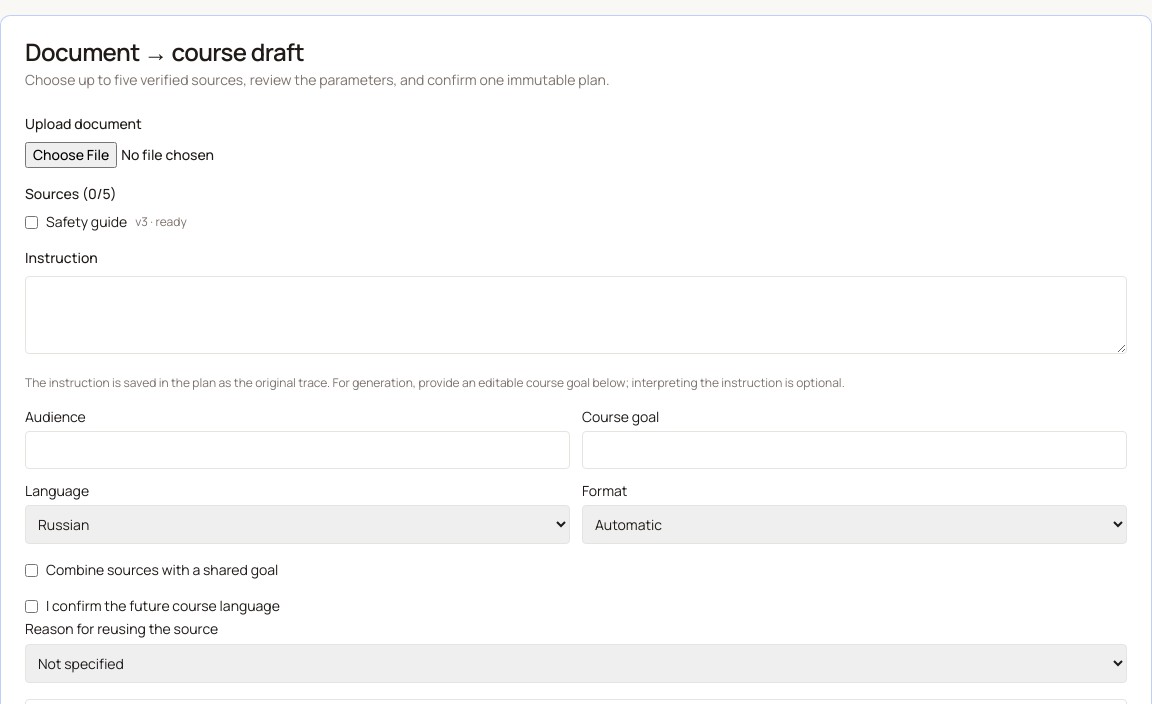
Test: document dialogue transport › keeps task creation out of effects and requires an explicit save before preview
Check: the text "Safety guide" is shown, box 46,212 -> 127,231
Click the checkbox labelled "Safety guide v3 · ready" at (32, 222), box 25,216 -> 38,228
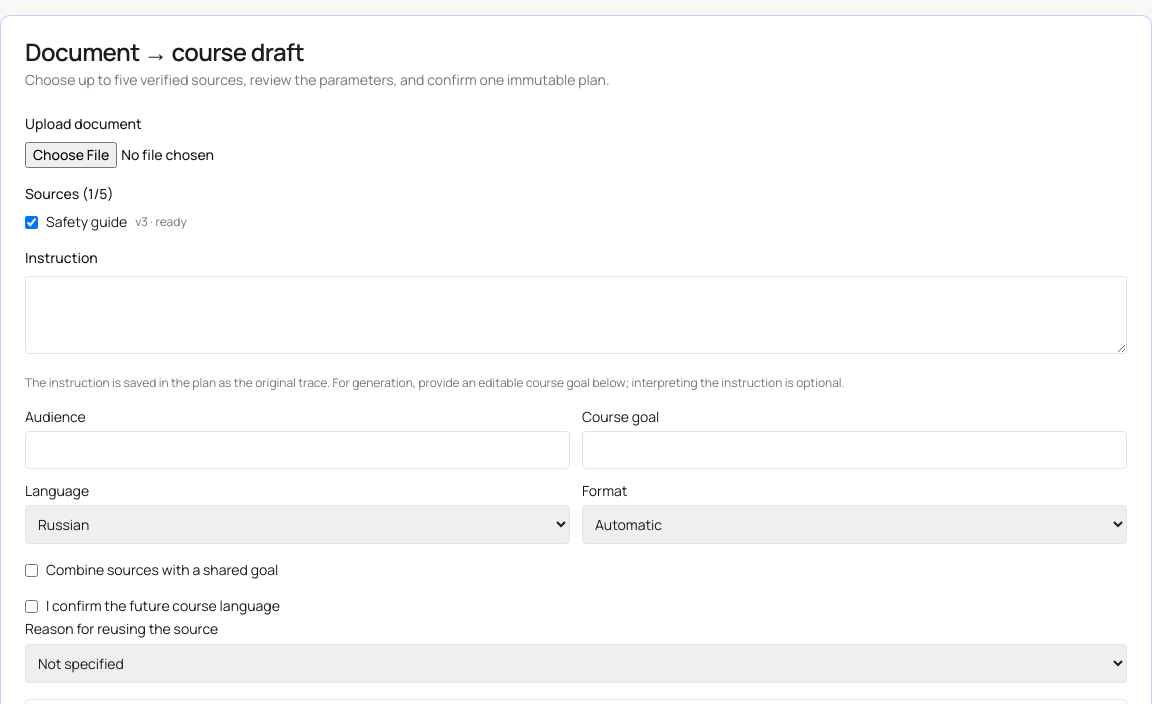
Select "English" in the dropdown labelled "Language" at (298, 524), box 25,505 -> 570,544
(page scrolled)
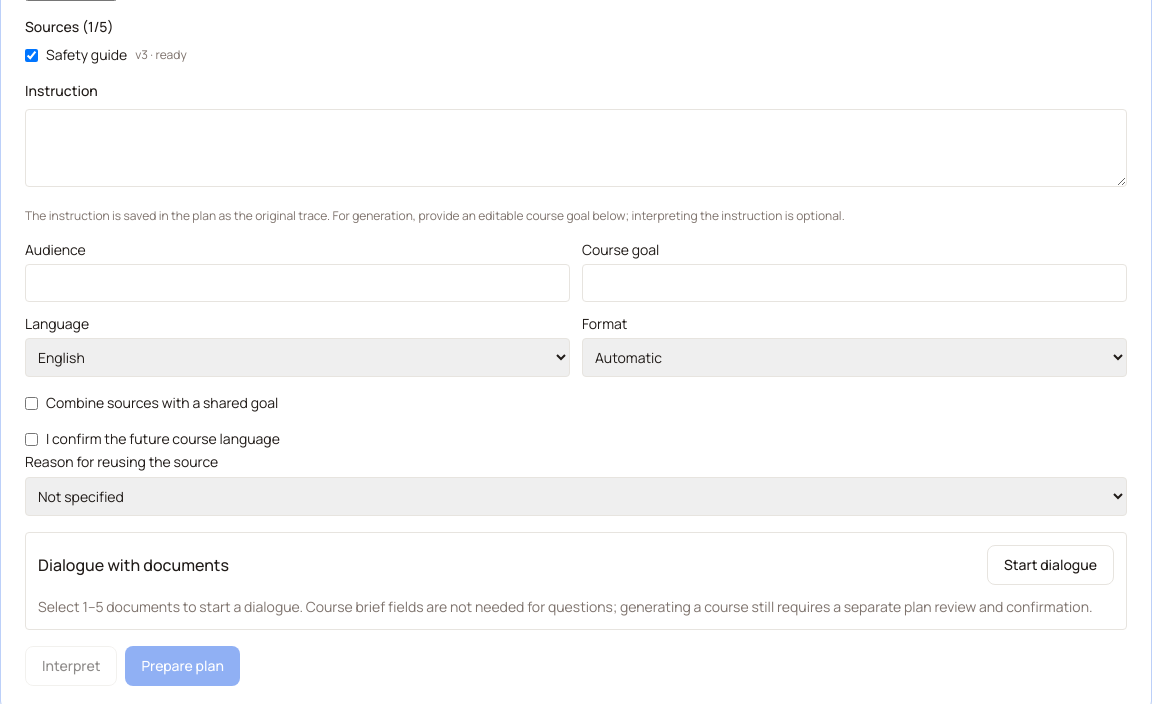
Click the button "Start dialogue" at (1050, 565), box 987,545 -> 1114,585
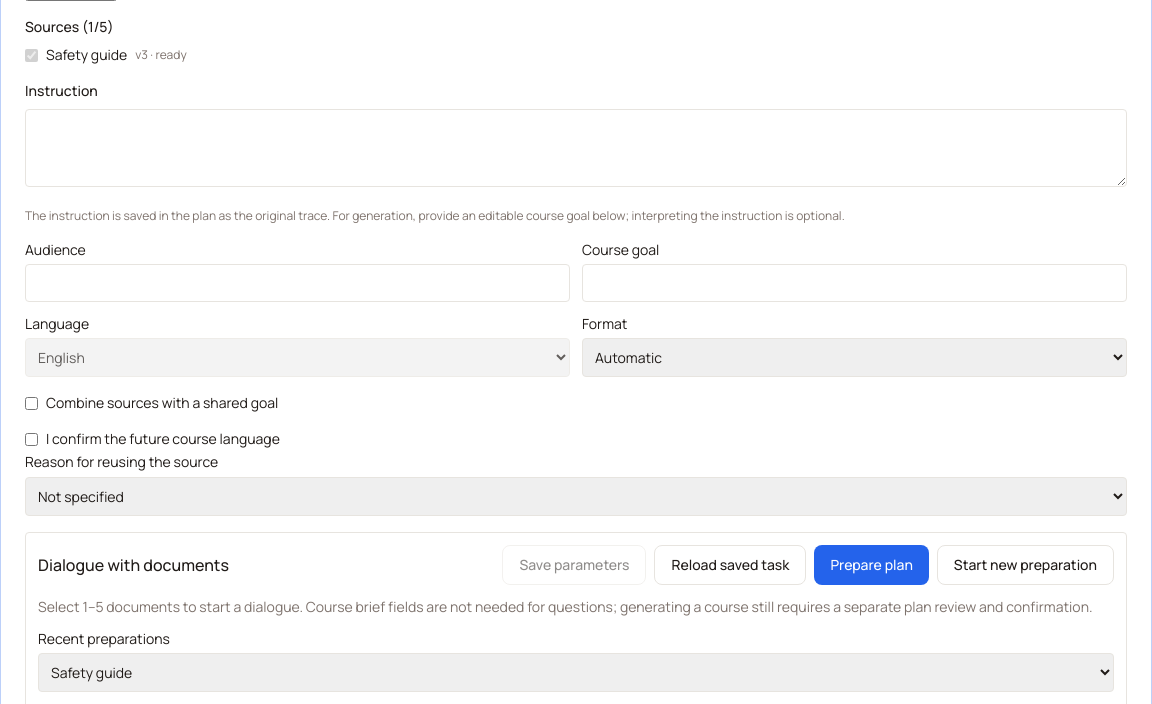
Type "Teach safe work" into the field labelled "Course goal" at (854, 283), box 582,264 -> 1127,302
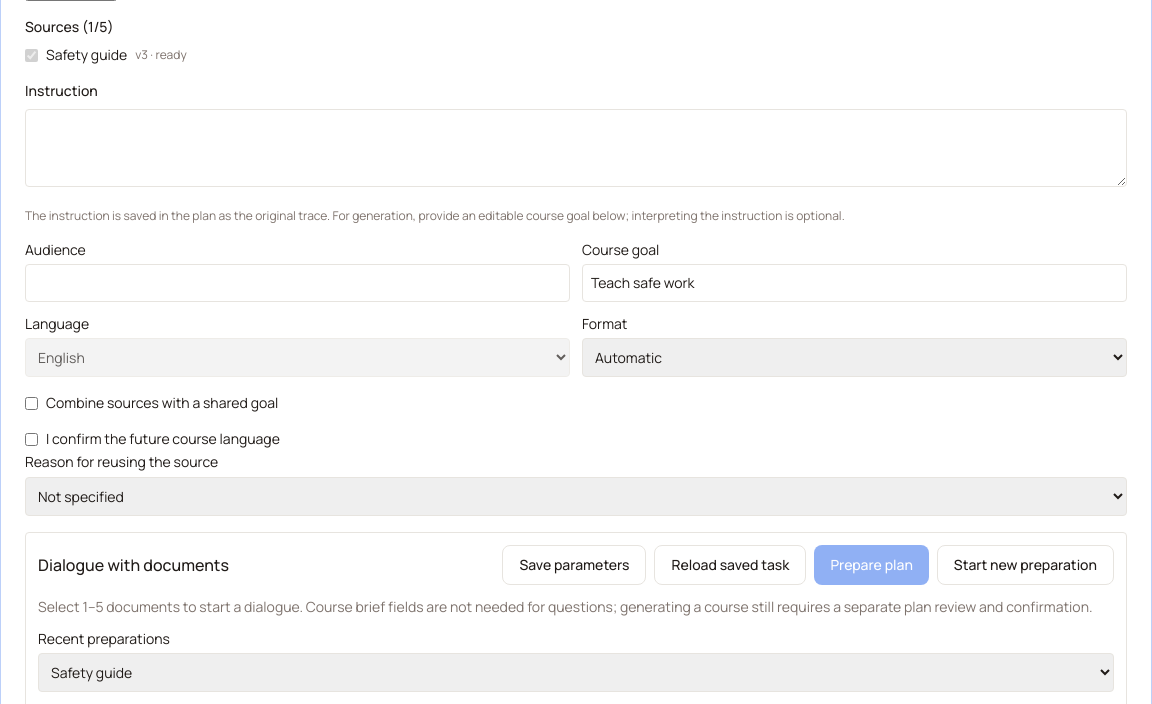
Check: the button "Prepare plan" is disabled, box 814,545 -> 929,585
Click the button "Save parameters" at (574, 565), box 502,545 -> 646,585
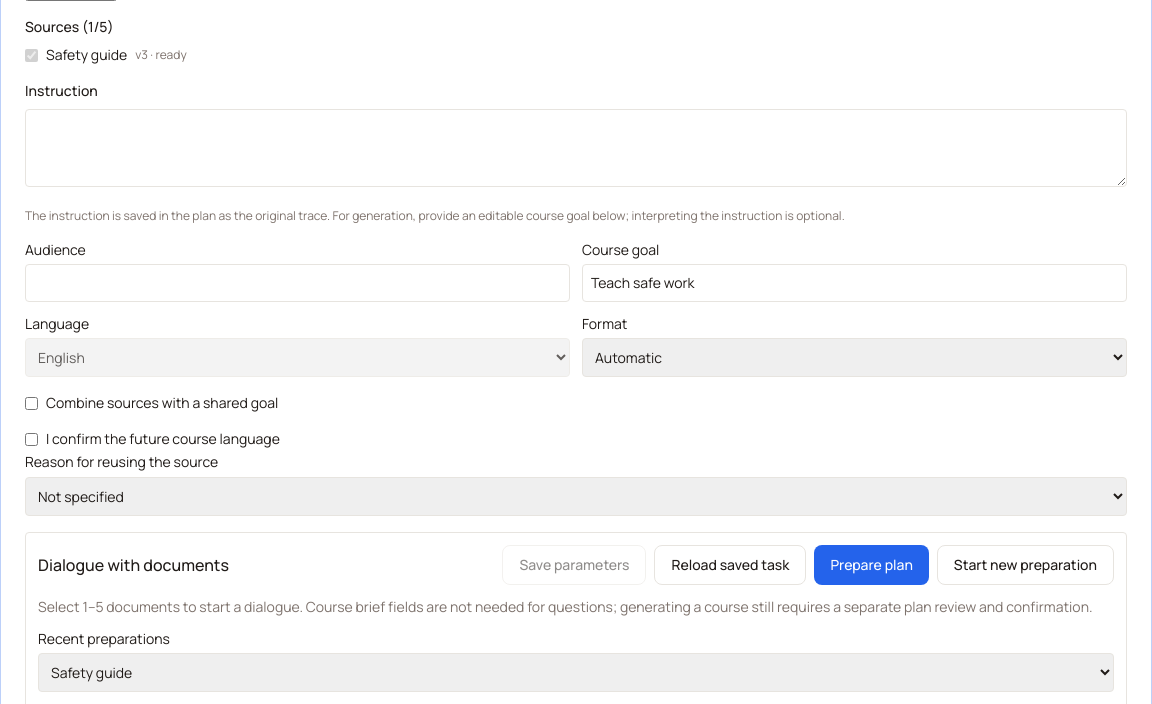
Check: the button "Prepare plan" is enabled
Click the button "Prepare plan" at (872, 565), box 814,545 -> 929,585
(page scrolled)
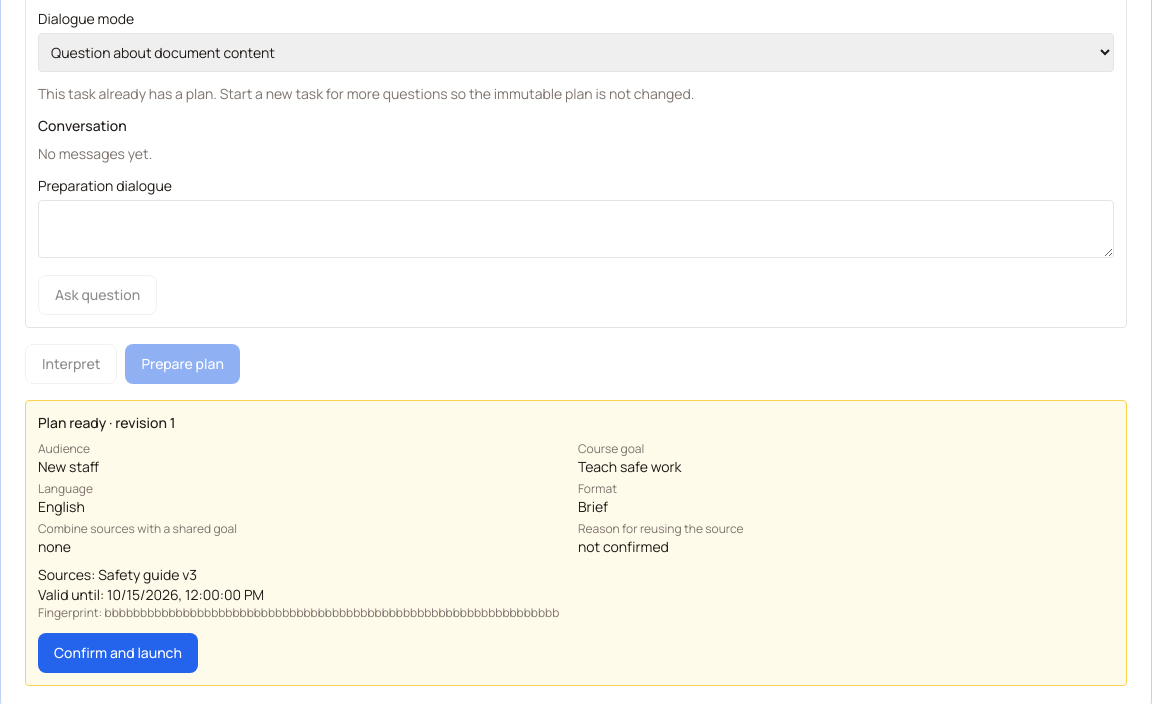
Check: the text "Plan ready · revision 1" is shown, box 38,413 -> 175,432
